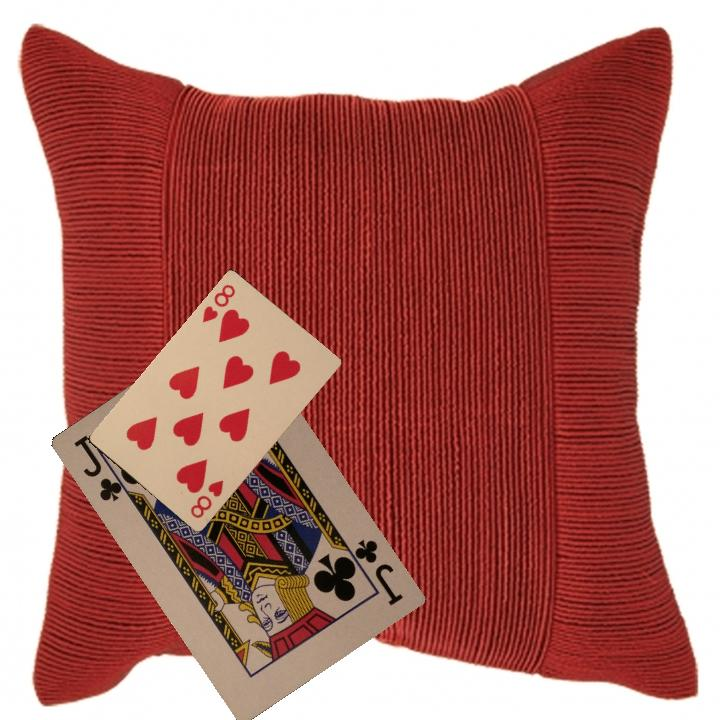8h: (198, 279, 238, 325), (186, 476, 226, 521)
Jc: (340, 535, 406, 609), (69, 431, 134, 505)
